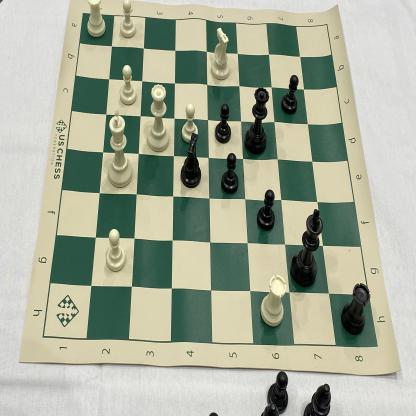black-king: (290, 206, 324, 289)
black-knight: (180, 134, 204, 189)
black-pawn: (218, 148, 240, 197), (254, 187, 277, 233), (279, 71, 299, 117), (212, 102, 233, 145)
black-queen: (242, 85, 269, 157)
black-rook: (340, 279, 370, 339)
white-king: (105, 107, 136, 190)
white-knight: (209, 23, 231, 82)
white-pawn: (104, 224, 126, 275), (117, 63, 138, 107), (179, 100, 199, 143), (118, 0, 138, 40)
white-queen: (146, 80, 173, 155)
white-rook: (259, 272, 287, 330), (82, 0, 107, 38)
